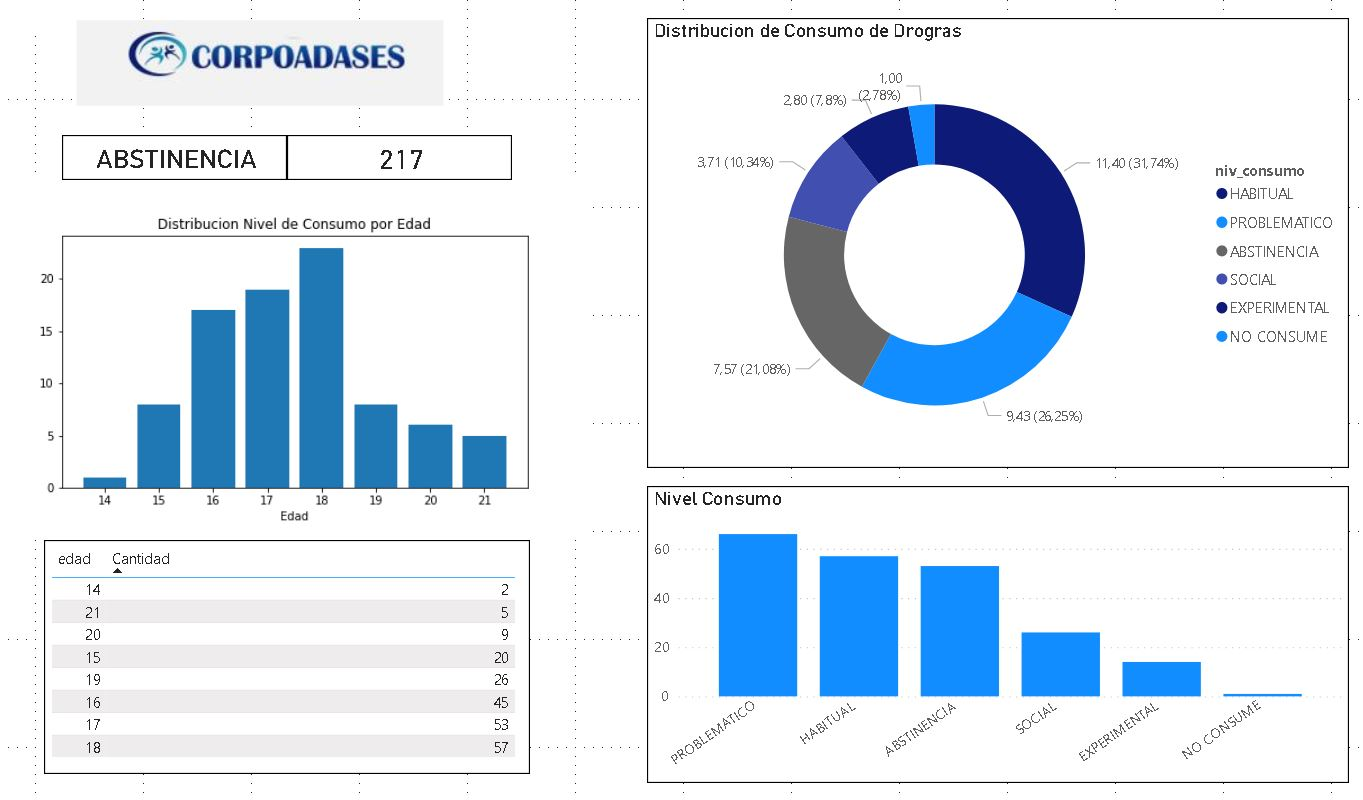

What the dashboard file says about the page in this screenshot:
{"tool":"powerbi","page":{"name":"NivelConsumo","canvas":[1280,720],"ordinal":3},"visuals":[{"type":"image","box":[128,16,336,96],"z":0},{"type":"donutChart","title":"Distribucion de Consumo de Drogras","fields":{"Category":["CSV_Visualizacion4.niv_consumo"],"Y":["Avg(CSV_Visualizacion4.Cantidad)"]},"box":[640,24,624,400],"z":1000},{"type":"pythonVisual","fields":{"Values":["CSV_Visualizacion4.edad","Sum(CSV_Visualizacion4.Cantidad)","CSV_Visualizacion4.niv_consumo"]},"box":[48,168,544,320],"z":2000},{"type":"columnChart","title":"Nivel Consumo","fields":{"Category":["CSV_Visualizacion4.niv_consumo"],"Y":["Sum(CSV_Visualizacion4.Cantidad)"]},"box":[640,440,624,264],"z":3000},{"type":"actionButton","box":[0,0,100,40],"z":4000},{"type":"card","fields":{"Values":["Min(CSV_Visualizacion4.niv_consumo)"]},"box":[120,128,200,40],"z":5000},{"type":"card","fields":{"Values":["Sum(CSV_Visualizacion4.Cantidad)"]},"box":[320,128,200,40],"z":6000},{"type":"tableEx","fields":{"Values":["CSV_Visualizacion4.edad","Sum(CSV_Visualizacion4.Cantidad)"]},"box":[104,488,432,208],"z":7000}]}

Visuals, with their boxes on the page's 1280x720 design canvas (x1, y1, x2, y2). These are canvas units, not pixel positions in the 1363x800 screenshot, which may show the page scaled, cropped or inside an application window:
image: [128, 16, 464, 112]
"Distribucion de Consumo de Drogras" donutChart: [640, 24, 1264, 424]
pythonVisual - CSV_Visualizacion4.edad x Sum(CSV_Visualizacion4.Cantidad): [48, 168, 592, 488]
"Nivel Consumo" columnChart: [640, 440, 1264, 704]
actionButton: [0, 0, 100, 40]
card - Min(CSV_Visualizacion4.niv_consumo): [120, 128, 320, 168]
card - Sum(CSV_Visualizacion4.Cantidad): [320, 128, 520, 168]
tableEx - CSV_Visualizacion4.edad x Sum(CSV_Visualizacion4.Cantidad): [104, 488, 536, 696]
